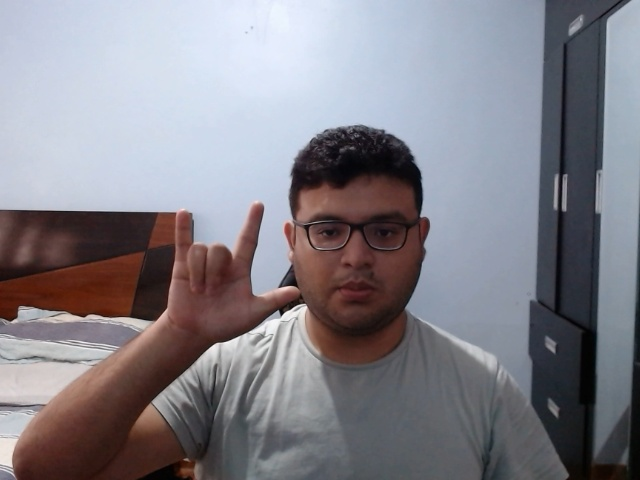I love you: (162, 199, 303, 353)
